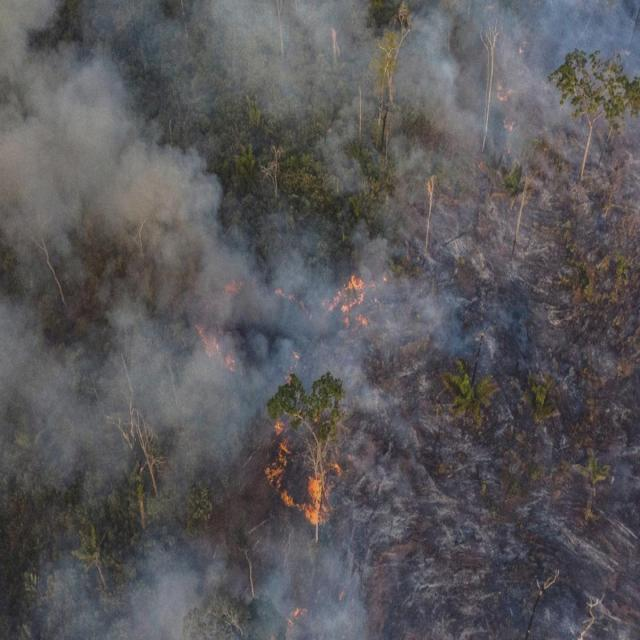Fire: (264, 419, 342, 526), (327, 272, 370, 331), (193, 320, 236, 374)
Smoke: (0, 1, 640, 640)
